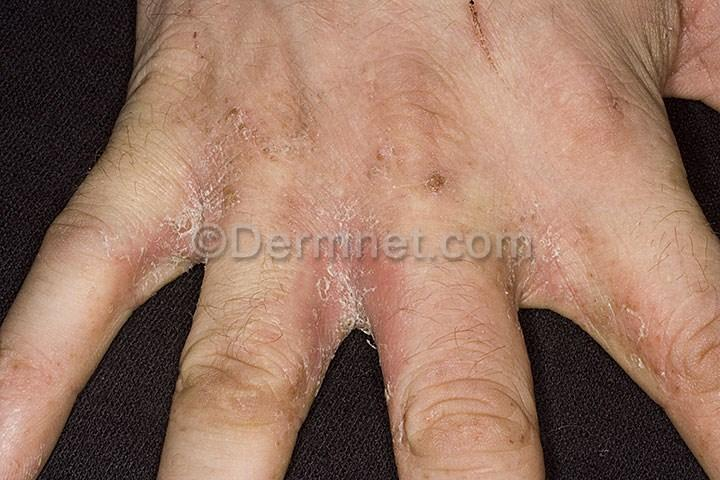Eczema: (407, 126, 492, 219), (500, 207, 584, 299), (171, 95, 247, 194), (581, 245, 649, 352), (310, 164, 387, 258), (313, 256, 384, 340), (123, 209, 190, 272)
